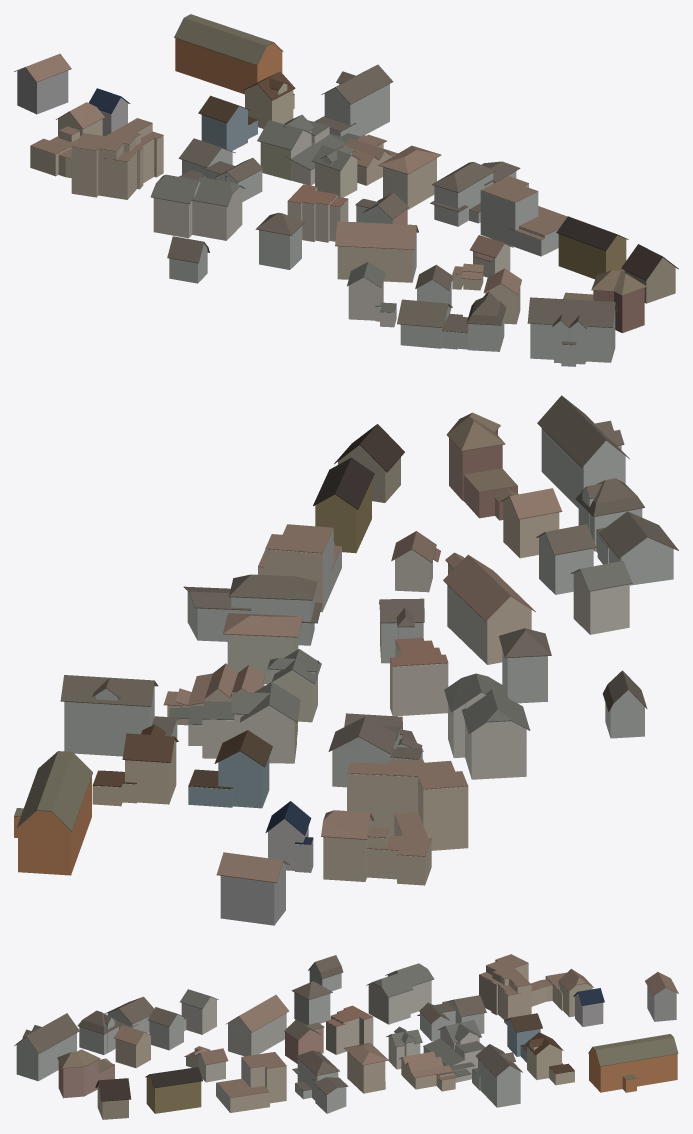
File: architecture--180_-360.glb
The picture shows the model from 3 angles, top to bottom: view 1: azimuth 30°, elevation 25°; view 2: azimuth 150°, elevation 25°; view 3: azimuth 270°, elevation 25°; orthographic projection. The views are drawn at different scales.
Visible parts, largest first — view 1: architecture--180_-360; view 2: architecture--180_-360; view 3: architecture--180_-360.
Part boxes in pixels (x1,y1,x2,y2): architecture--180_-360: (14, 14, 678, 366); architecture--180_-360: (14, 395, 678, 925); architecture--180_-360: (14, 954, 678, 1119).
Bounding box in the file's own units: 59.45 × 9.11 × 118.
